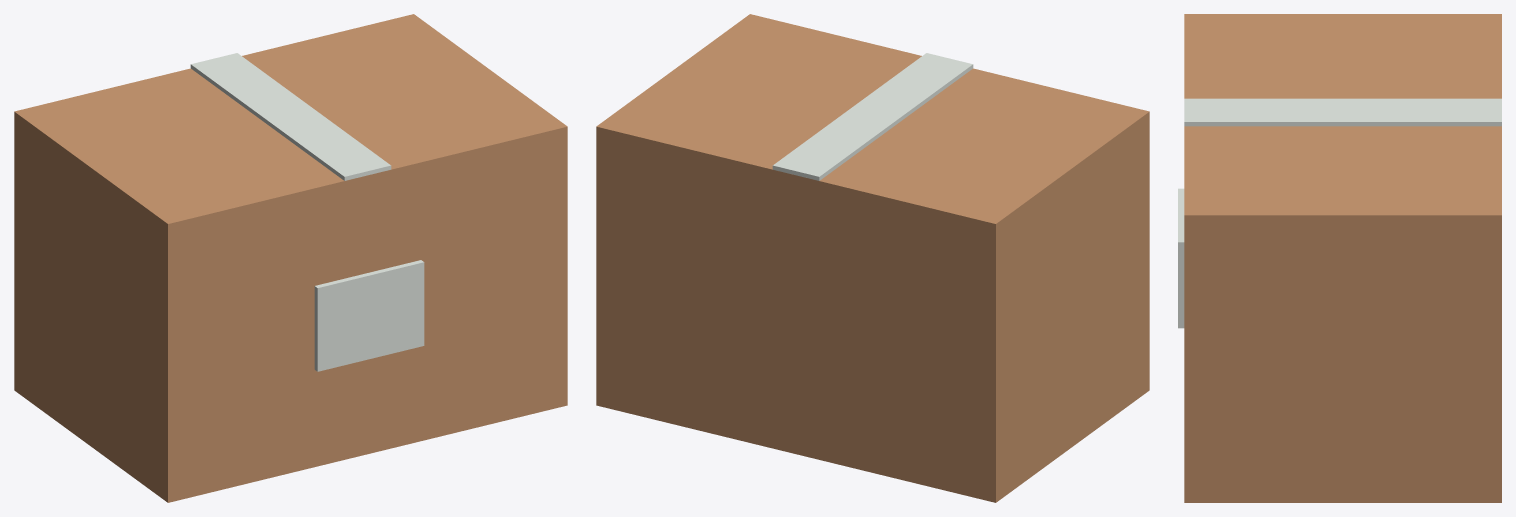
File: folded-shipping-carton.glb
The picture shows the model from 3 angles, left to right: view 1: azimuth 30°, elevation 25°; view 2: azimuth 150°, elevation 25°; view 3: azimuth 270°, elevation 25°; orthographic projection. The views are drawn at different scales.
Parts seen in each view (by area): view 1: copper, cream; view 2: copper, cream; view 3: copper, cream.
Boxes of the visible parts, bbox=[...] form: copper: bbox=[14, 14, 567, 502]; cream: bbox=[190, 53, 424, 371]; copper: bbox=[596, 14, 1149, 502]; cream: bbox=[772, 53, 973, 180]; copper: bbox=[1184, 14, 1501, 502]; cream: bbox=[1178, 98, 1501, 328].
Size of the model in its own units: 0.6 by 0.406 by 0.408.
